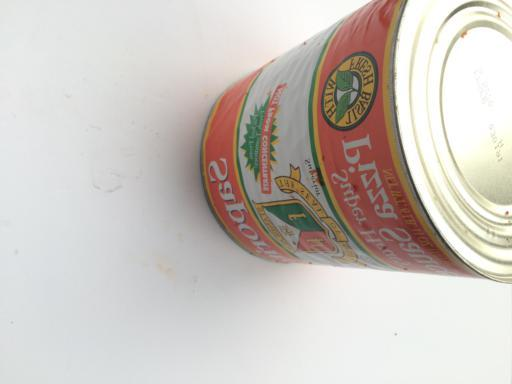metal: (198, 4, 512, 288)
